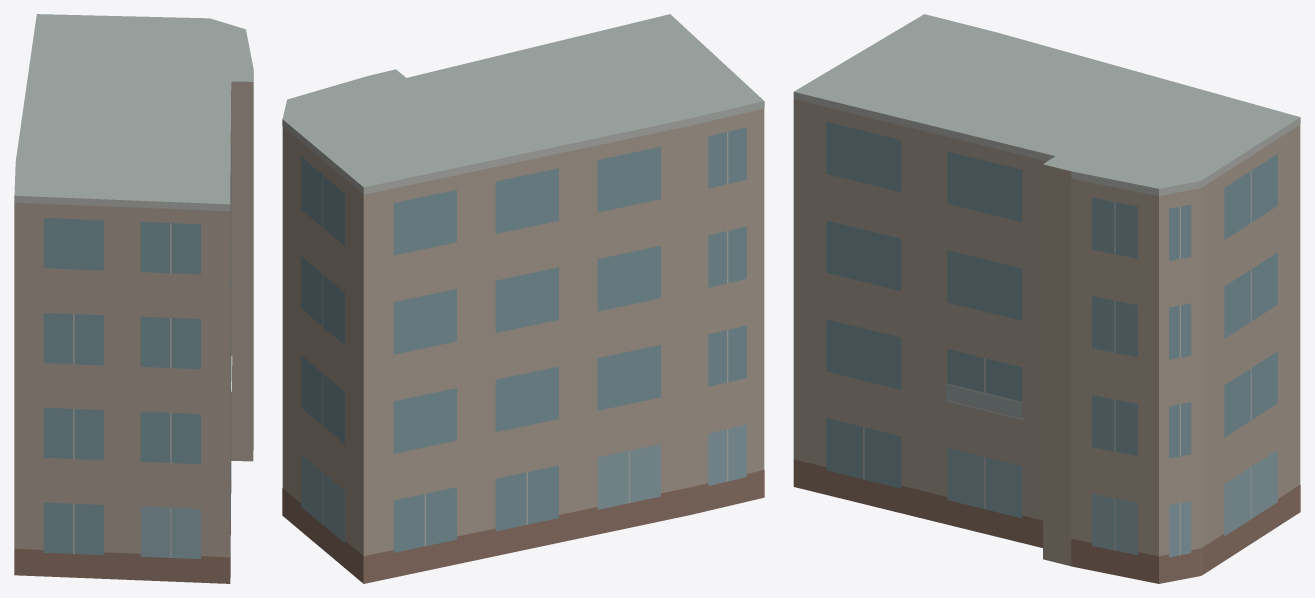
Rendered from survey-upis-32474677.glb.
3 views of the same model, side by side, from view 1: azimuth 30°, elevation 25°; view 2: azimuth 150°, elevation 25°; view 3: azimuth 270°, elevation 25° (orthographic). The views are drawn at different scales.
Parts seen in each view (by area): view 1: survey-upis-32474677.tmp; view 2: survey-upis-32474677.tmp; view 3: survey-upis-32474677.tmp.
Boxes of the visible parts, <box> form: survey-upis-32474677.tmp: <box>14,14,253,583</box>; survey-upis-32474677.tmp: <box>282,14,764,583</box>; survey-upis-32474677.tmp: <box>793,14,1300,583</box>.
Size of the model in its own units: 12.64 by 13.3 by 15.47.
